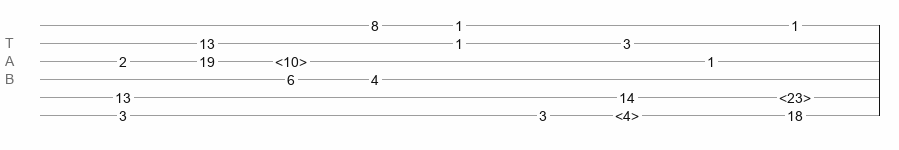1: (455, 18, 463, 28), (455, 36, 463, 46), (707, 54, 715, 64), (791, 18, 799, 28)
13: (115, 90, 131, 100), (199, 36, 215, 46)
14: (619, 90, 635, 100)
18: (787, 108, 803, 118)
19: (199, 54, 215, 64)
2: (119, 54, 127, 64)
3: (119, 108, 127, 118), (539, 108, 547, 118), (623, 36, 631, 46)
4: (371, 72, 379, 82)
6: (287, 72, 295, 82)
8: (371, 18, 379, 28)
harmonic: (275, 54, 307, 64), (779, 90, 811, 100), (615, 108, 639, 118)
